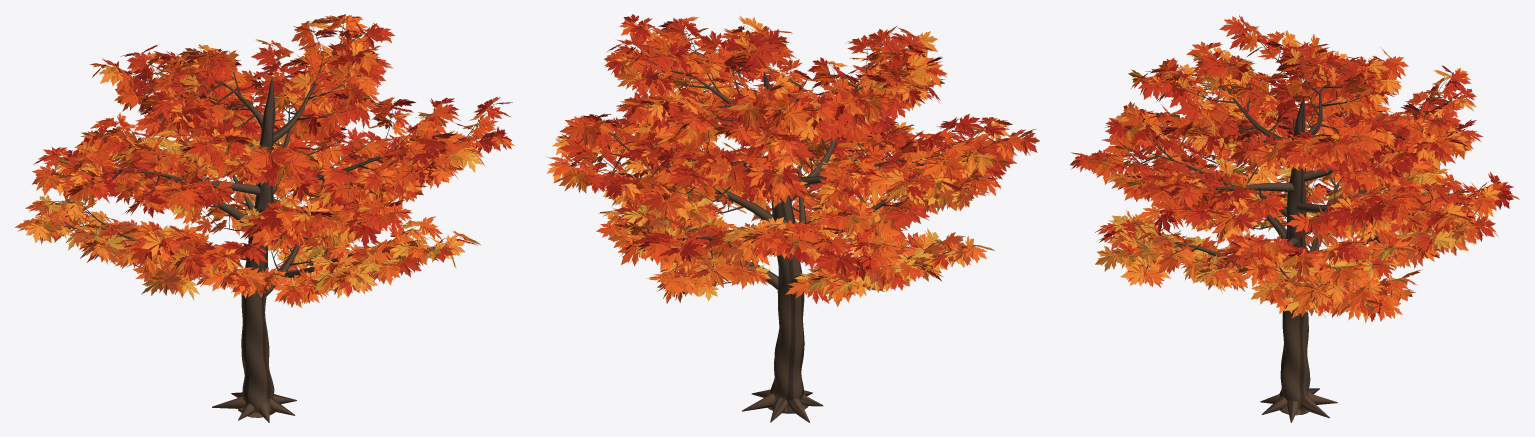
Rendered from autumn-maple-spreading.glb.
3 renders of one model, left to right at view 1: azimuth 30°, elevation 25°; view 2: azimuth 150°, elevation 25°; view 3: azimuth 270°, elevation 25°, orthographic. The views are drawn at different scales.
Parts seen in each view (by area): view 1: spreading-03-Seven-lobed-serrated-maple-leaves, spreading-01-Flared-trunk-and-scaffold, spreading-02-Connected-twigs-and-petioles; view 2: spreading-03-Seven-lobed-serrated-maple-leaves, spreading-01-Flared-trunk-and-scaffold, spreading-02-Connected-twigs-and-petioles; view 3: spreading-03-Seven-lobed-serrated-maple-leaves, spreading-01-Flared-trunk-and-scaffold, spreading-02-Connected-twigs-and-petioles.
Boxes of the visible parts, x1,y1,x2,y2 form: spreading-03-Seven-lobed-serrated-maple-leaves: [14, 14, 514, 307]; spreading-01-Flared-trunk-and-scaffold: [91, 76, 406, 422]; spreading-02-Connected-twigs-and-petioles: [38, 21, 496, 289]; spreading-03-Seven-lobed-serrated-maple-leaves: [546, 14, 1039, 306]; spreading-01-Flared-trunk-and-scaffold: [611, 71, 923, 422]; spreading-02-Connected-twigs-and-petioles: [569, 23, 1022, 285]; spreading-03-Seven-lobed-serrated-maple-leaves: [1070, 15, 1519, 323]; spreading-01-Flared-trunk-and-scaffold: [1149, 75, 1402, 422]; spreading-02-Connected-twigs-and-petioles: [1093, 26, 1500, 303].
Size of the model in its own units: 8.79 by 6.53 by 7.97.
